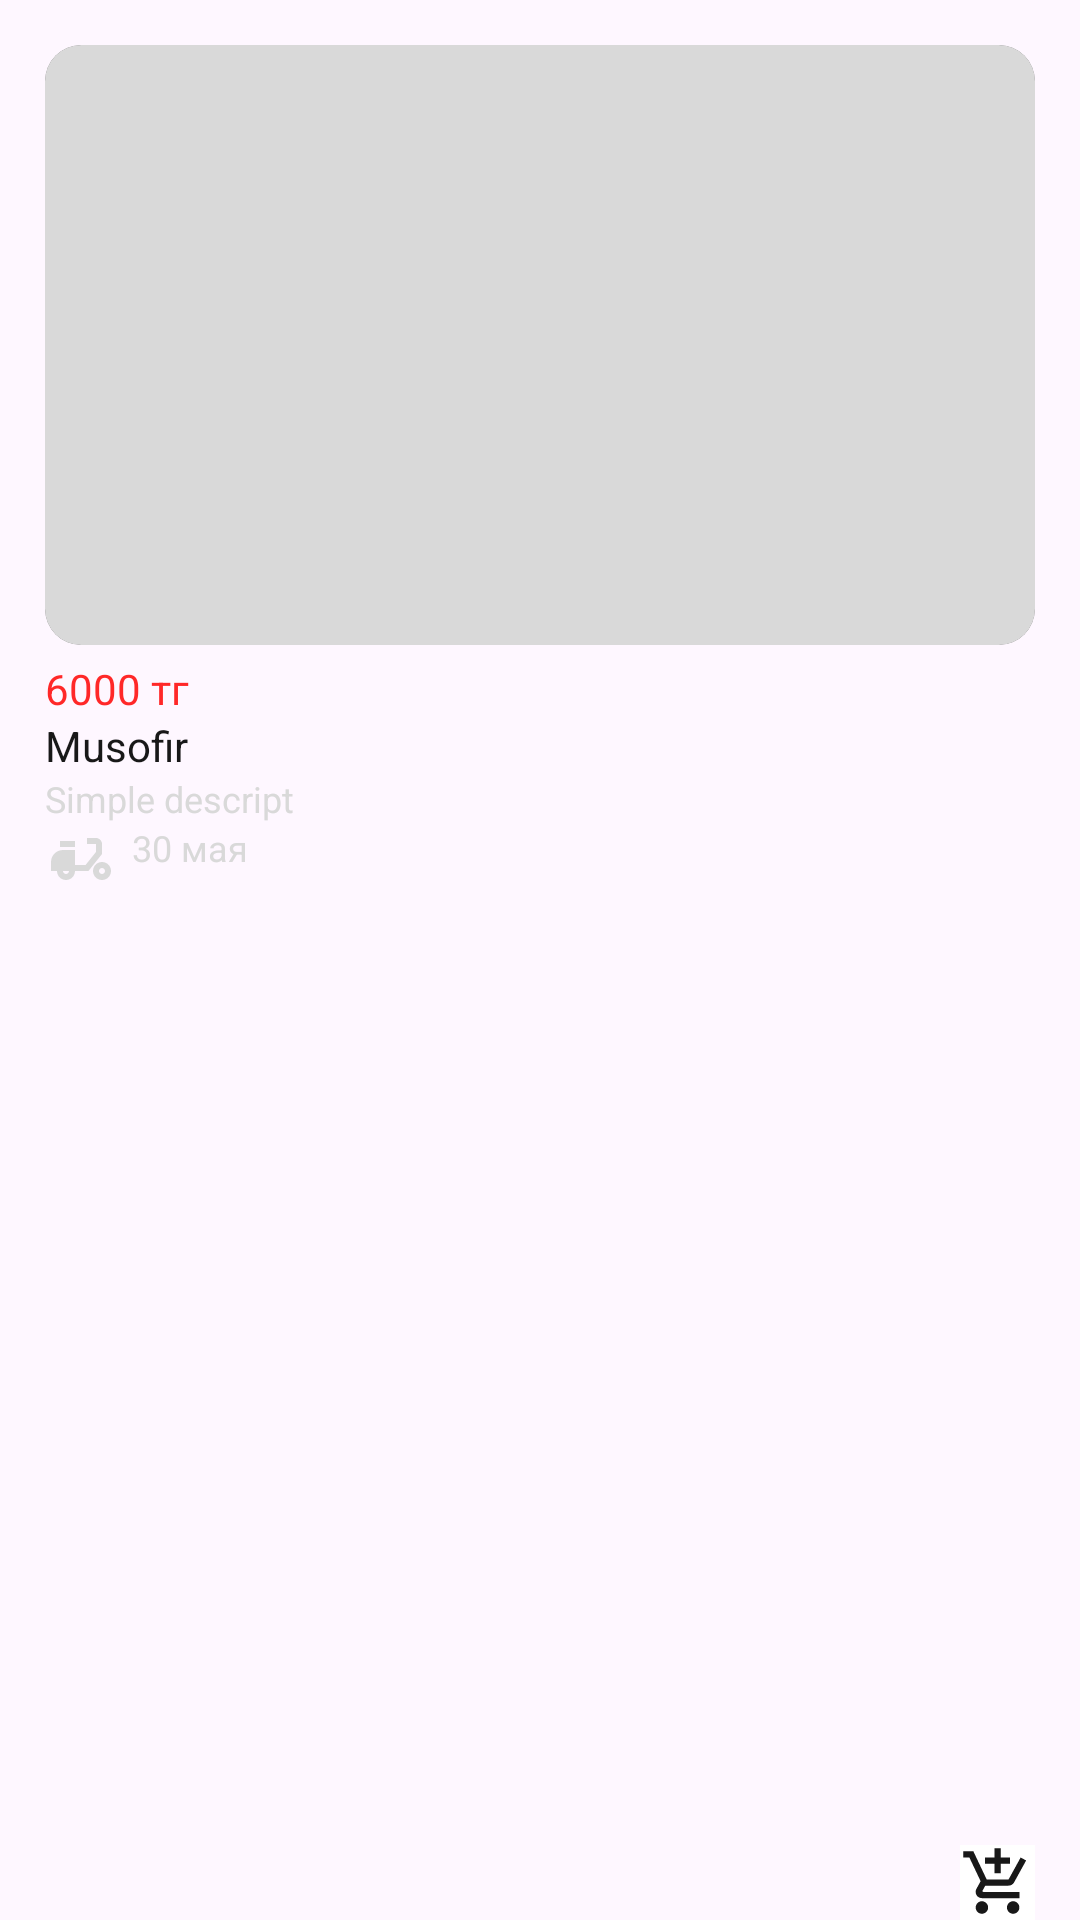

Where icons sit on this 1080x1920 app screen, as (x1, y1, x2, y2):
add shopping cart: (963, 1848, 1026, 1914)
